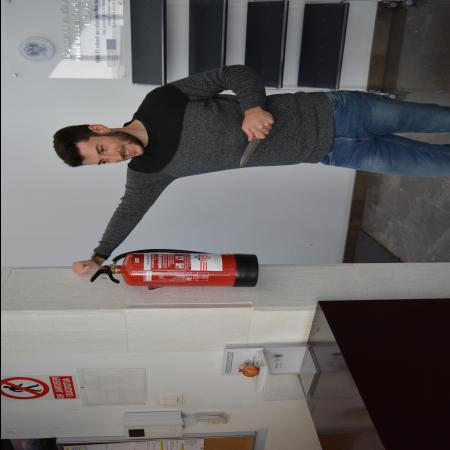long weapon: (236, 130, 264, 168)
